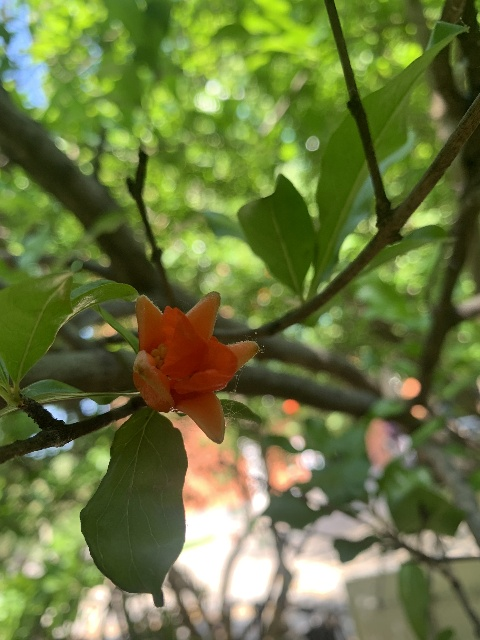flower: (132, 290, 256, 442)
